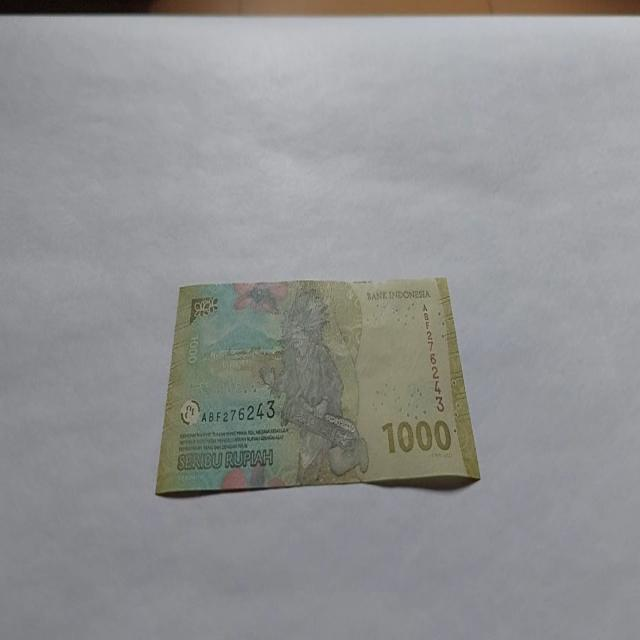seribu rupiah kertas: (153, 275, 480, 497)
